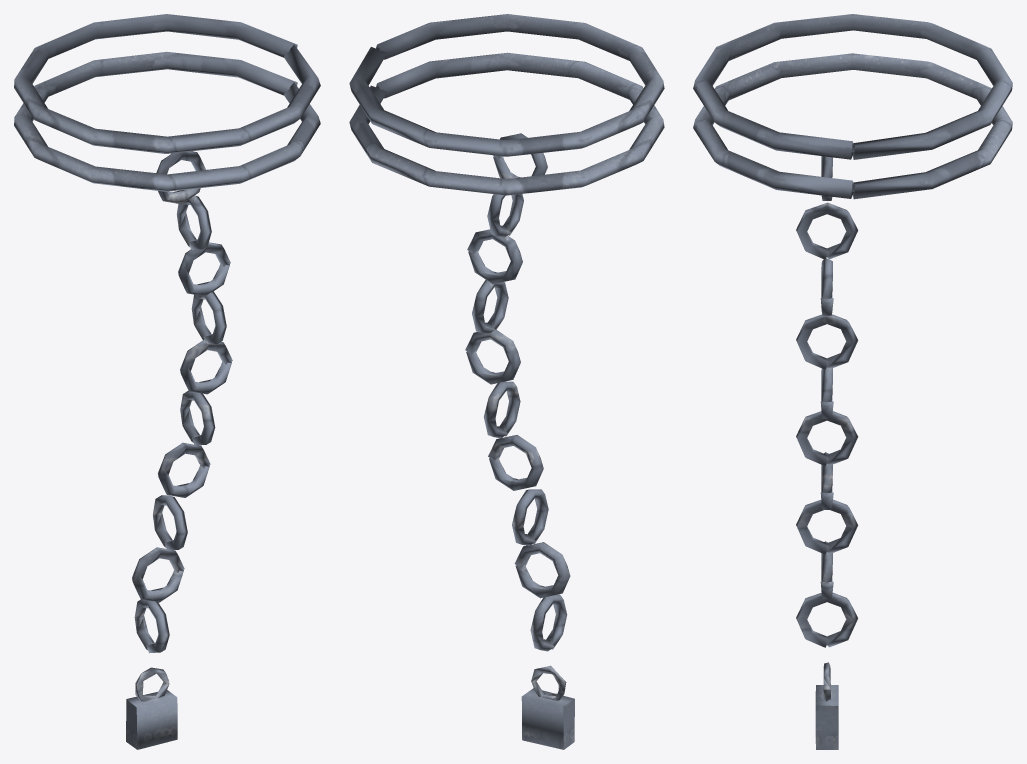
File: Maton_Cadena.fbx
The picture shows the model from 3 angles, left to right: view 1: azimuth 30°, elevation 25°; view 2: azimuth 150°, elevation 25°; view 3: azimuth 270°, elevation 25°; orthographic projection. The views are drawn at different scales.
Visible parts, largest first — view 1: Maton_Cadena; view 2: Maton_Cadena; view 3: Maton_Cadena.
Part boxes in pixels (x1=…): Maton_Cadena: x1=14, y1=14, x2=320, y2=749; Maton_Cadena: x1=349, y1=14, x2=664, y2=749; Maton_Cadena: x1=693, y1=14, x2=1012, y2=749.
Size of the model in its own units: 1.31 by 3.07 by 1.32.
